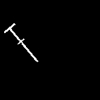double_crochet: (4, 24, 37, 61)
